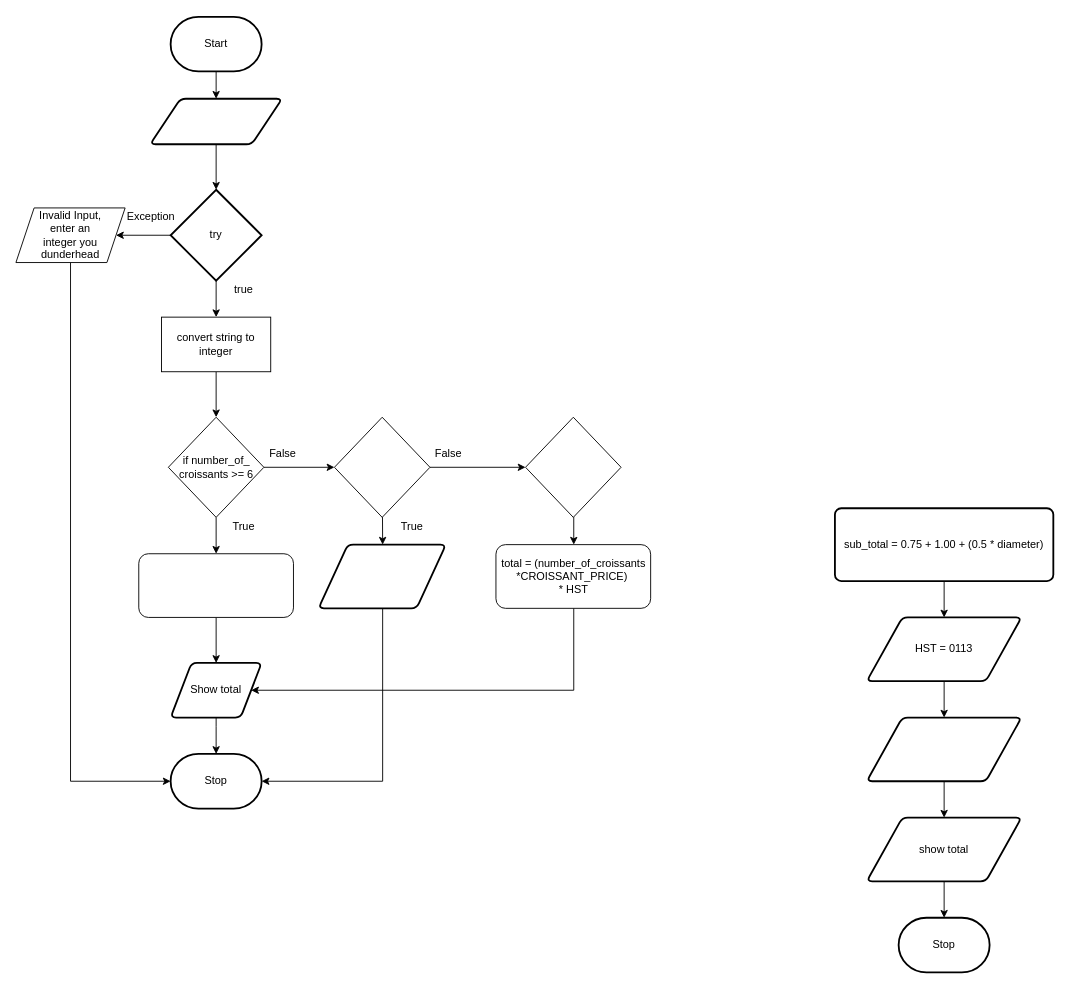
Image size: 1070x988. Some labels were removed from this diagram. The centre of each missing label's shape, as x and y in pixels:
elif number_of_ croissants > 0: [382,466]
else number_of_ croissants < 0: [573,466]
Get number_of_ crossiants: [216,121]
print ("number must be greater than 0"): [381,576]
total = number_of_croissants * CROISSANT_PRICE: [215,585]
total = sub_total * HST: [943,749]
